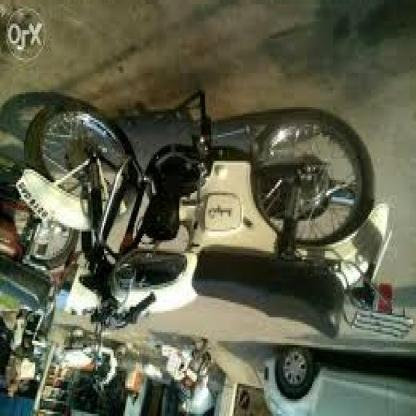bike: (85, 93, 409, 338)
